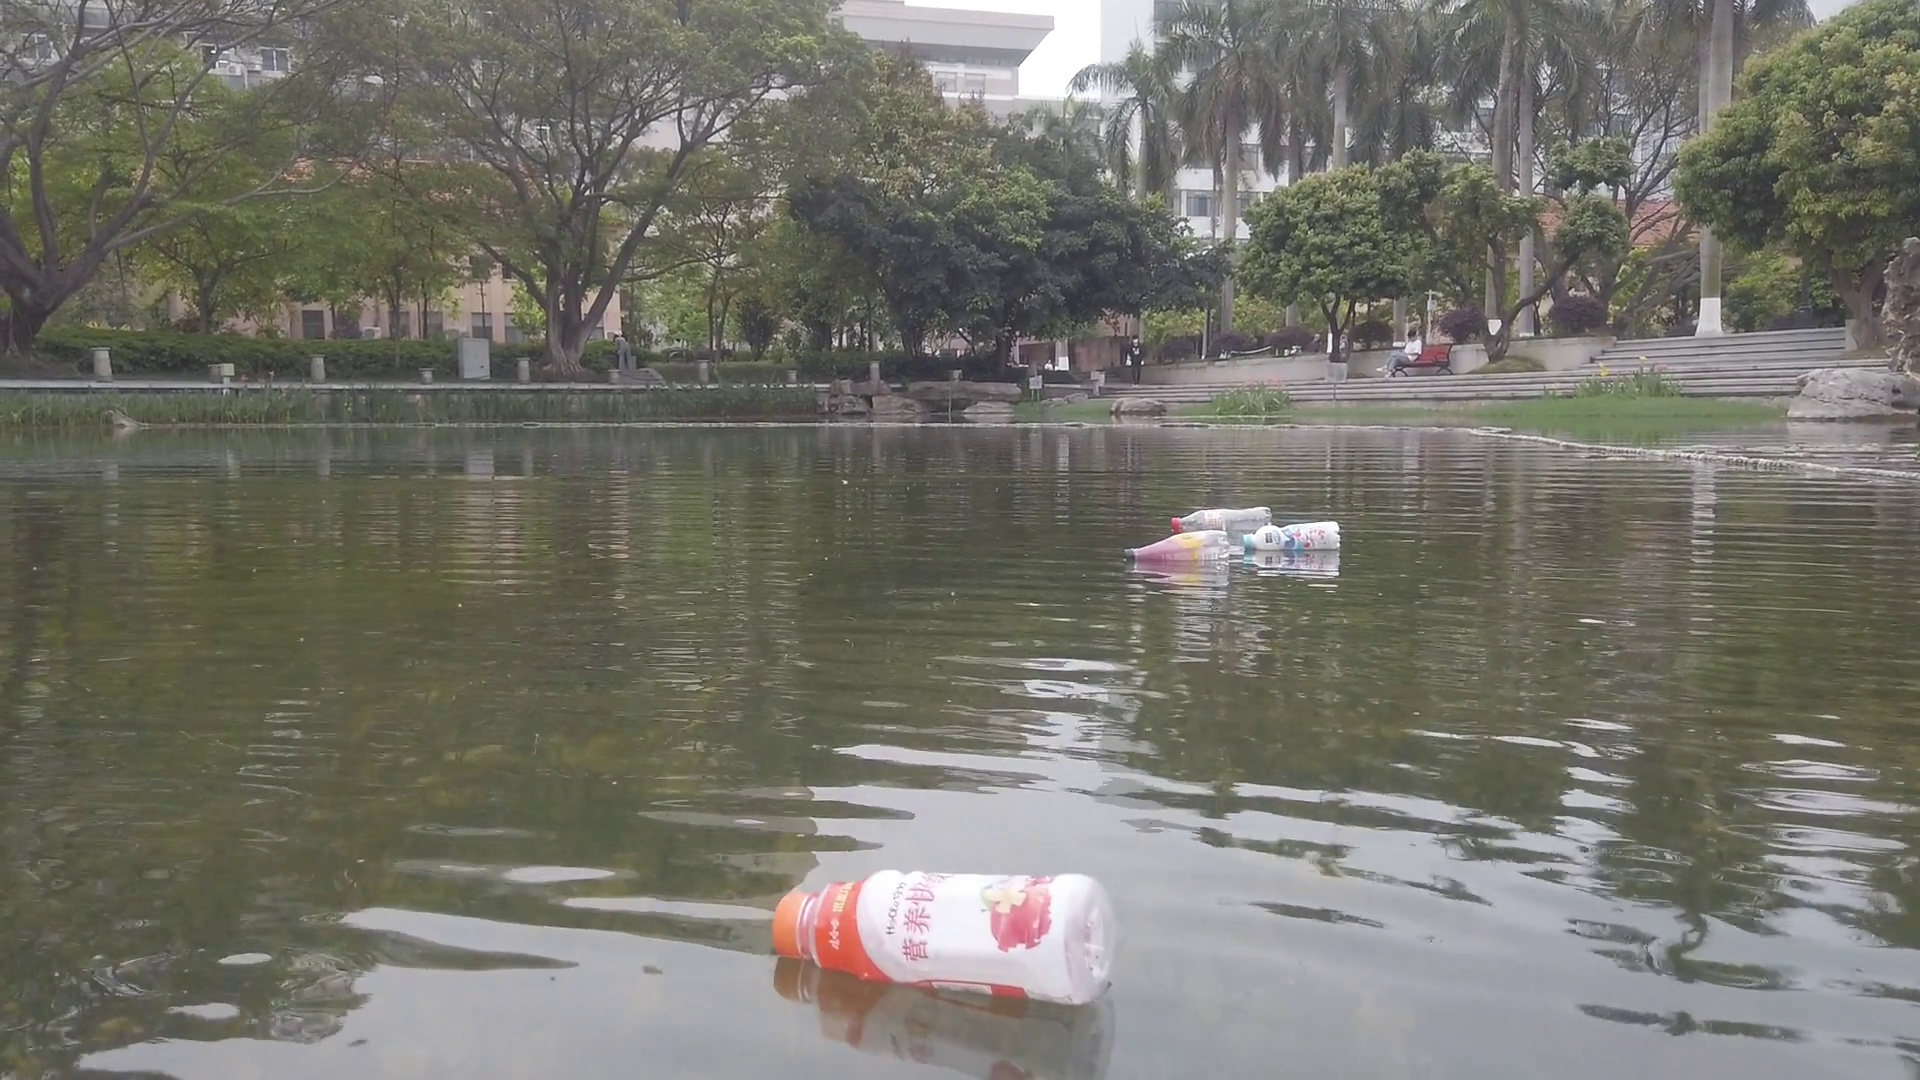bottle: (775, 864, 1118, 1013), (1121, 531, 1232, 563), (1172, 506, 1274, 539), (1245, 521, 1342, 551)
